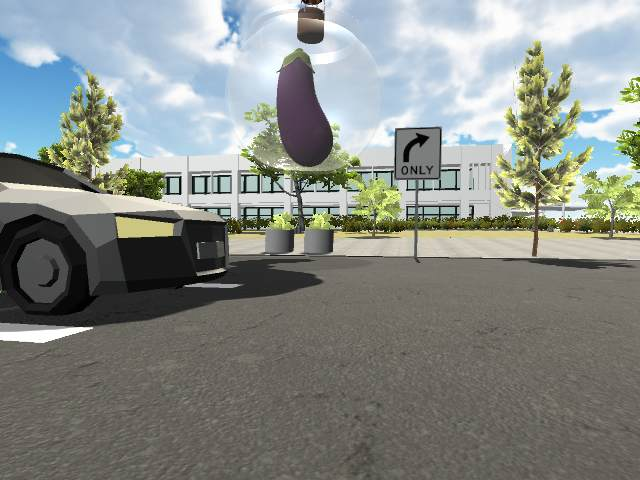arrow_right: (402, 131, 435, 165)
